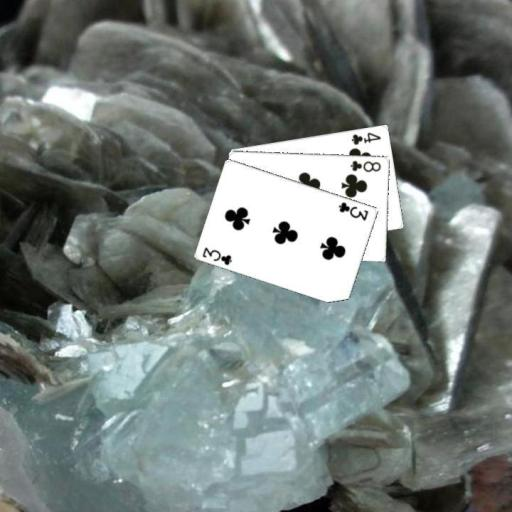3C: (336, 198, 371, 222), (199, 244, 234, 267)
4C: (349, 129, 383, 146)
8C: (348, 157, 383, 173)
